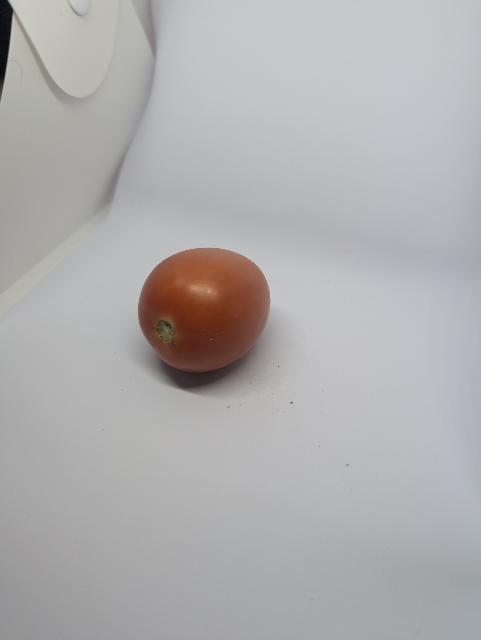red: (128, 236, 292, 382)
